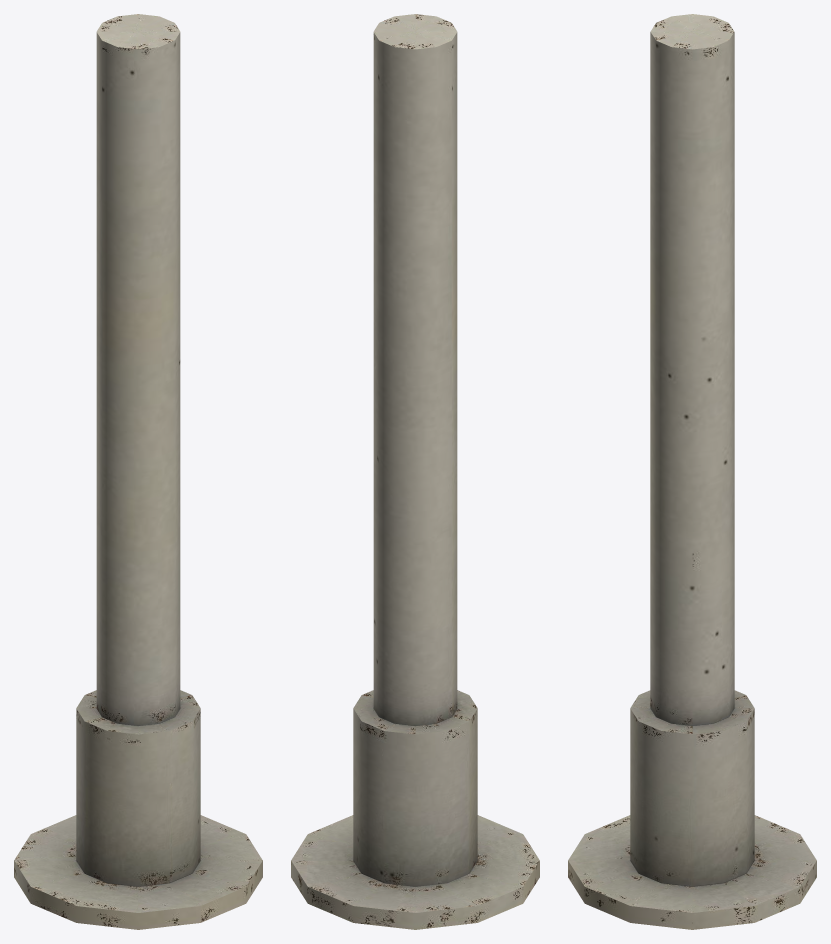
The model's file is pipe_floor_pass_web.glb.
The picture shows the model from 3 angles, left to right: view 1: azimuth 30°, elevation 25°; view 2: azimuth 150°, elevation 25°; view 3: azimuth 270°, elevation 25°; orthographic projection.
Parts seen in each view (by area): view 1: PipeFloorPass_Body; view 2: PipeFloorPass_Body; view 3: PipeFloorPass_Body.
Boxes of the visible parts, x1,y1,x2,y2 form: PipeFloorPass_Body: (14,14,262,929); PipeFloorPass_Body: (291,14,539,929); PipeFloorPass_Body: (568,14,816,929).
Size of the model in its own units: 0.08 by 0.3 by 0.08.
Materials: 1 (1 with a texture image).
